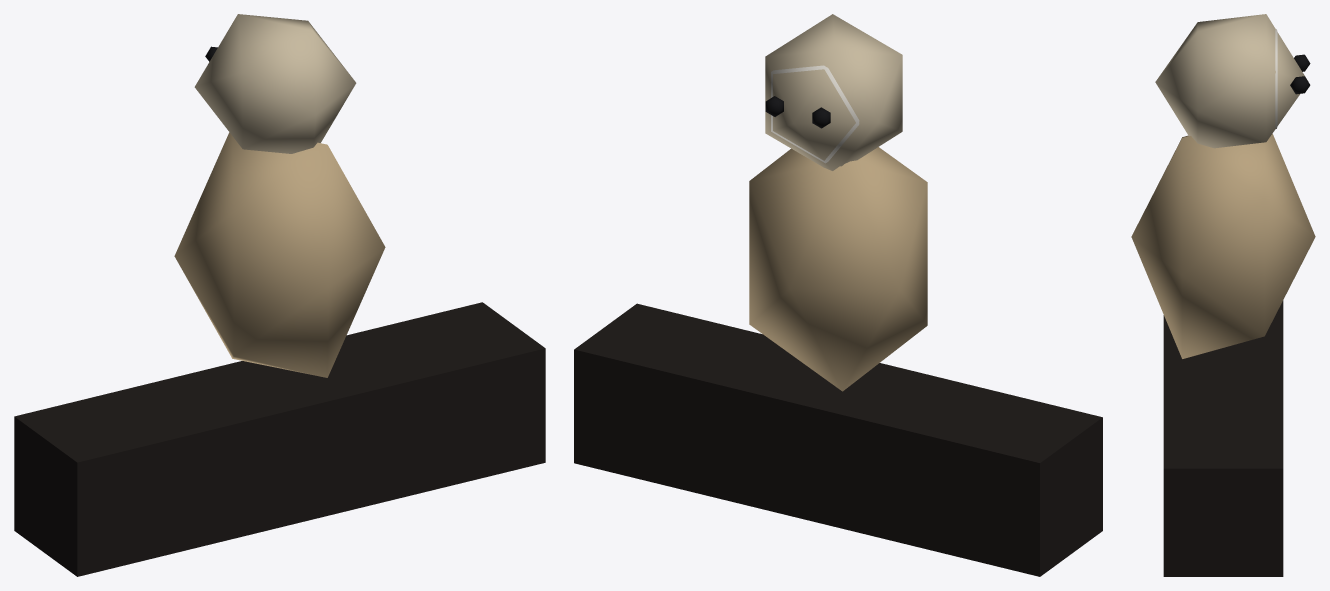
File: owl_perched.glb
3 views of the same model, side by side, from view 1: azimuth 30°, elevation 25°; view 2: azimuth 150°, elevation 25°; view 3: azimuth 270°, elevation 25° (orthographic). The views are drawn at different scales.
Visible parts, largest first — view 1: owl_perched; view 2: owl_perched; view 3: owl_perched.
Boxes of the visible parts, x1=… form: owl_perched: x1=14, y1=14, x2=545, y2=576; owl_perched: x1=574, y1=14, x2=1102, y2=576; owl_perched: x1=1131, y1=14, x2=1315, y2=576.
Size of the model in its own units: 0.6 by 0.5766 by 0.216.
